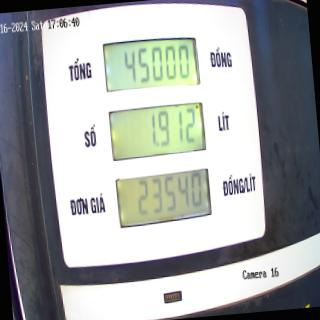screen: (100, 30, 214, 234)
